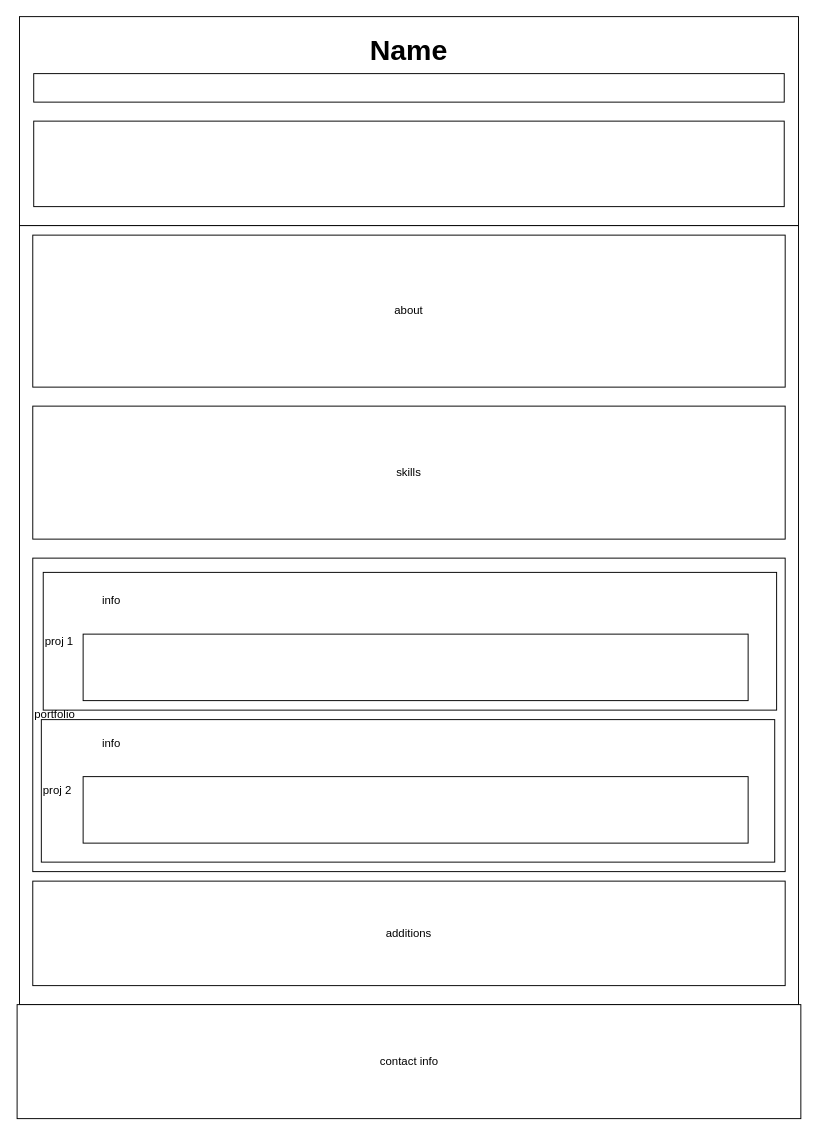
The diagram is 817 pixels wide and 1135 high, and some of its shapes have lost their labels. The centre of each missing label's shape, as x and y in pixels:
ASCII ART: [408,163]
code: [415,667]
img: [415,809]
links: [408,87]
